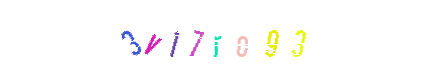1: (132, 0, 212, 80)
3: (107, 0, 187, 80), (245, 0, 325, 80)
7: (174, 0, 254, 80)
9: (243, 0, 323, 80)
O: (181, 0, 261, 80)
R: (176, 0, 256, 80)
V: (107, 0, 187, 80)
